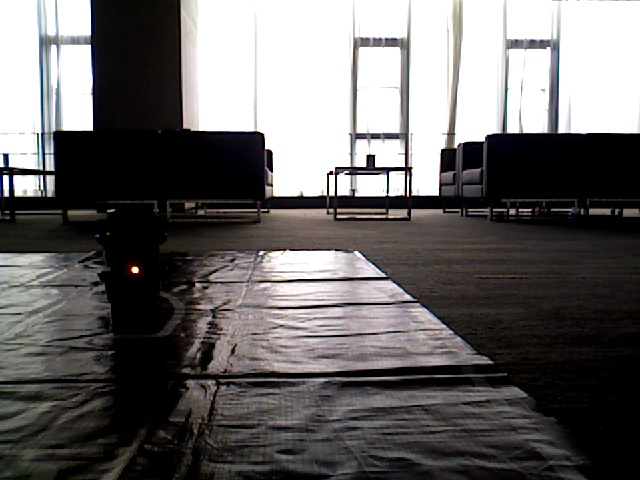yellow: (116, 217, 158, 318)
